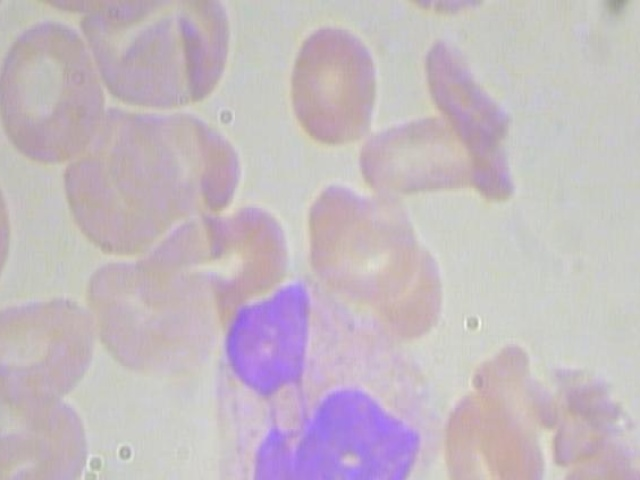WBC: (190, 267, 458, 480)
